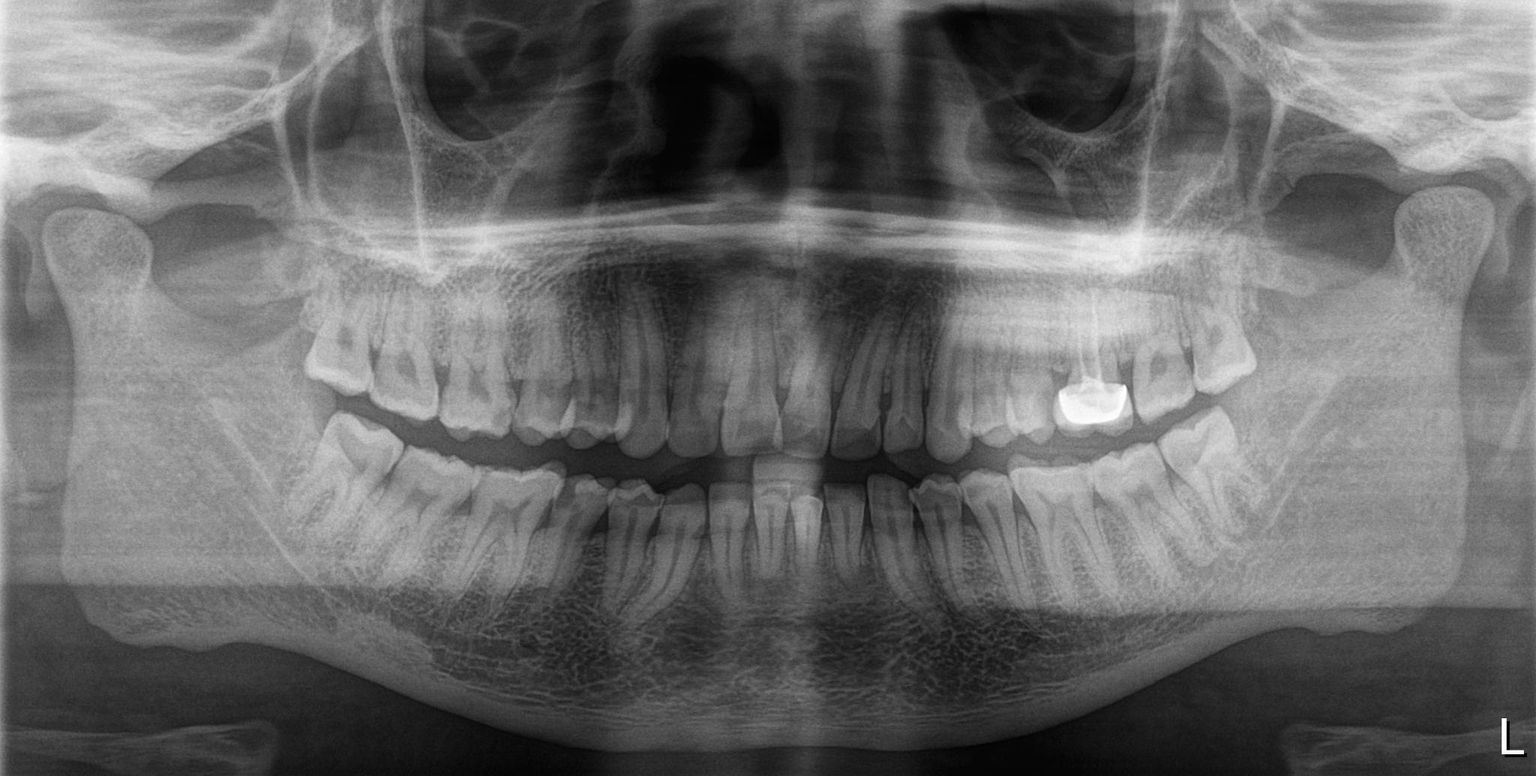Endodontically Treated Tooth: (1063, 292, 1129, 420)
Impacted Third Molar: (1164, 418, 1303, 527), (274, 395, 391, 515)
